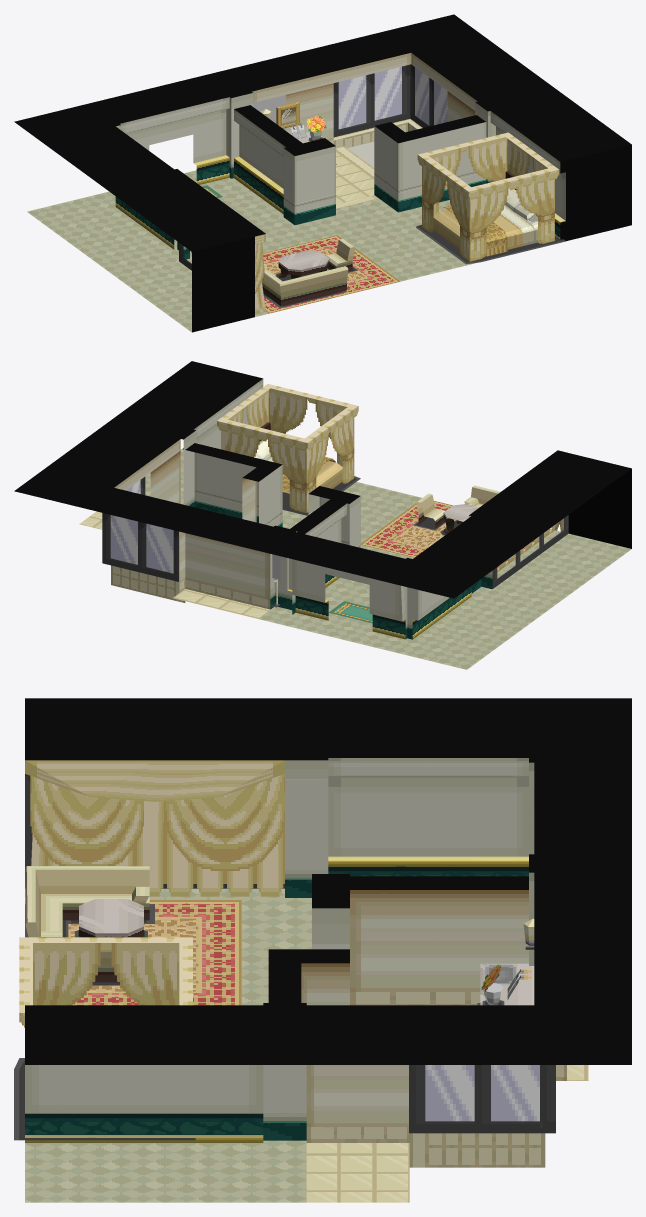
Rendered from ROOM32-2.obj.
3 views of the same model, one above another, from view 1: azimuth 30°, elevation 25°; view 2: azimuth 150°, elevation 25°; view 3: azimuth 270°, elevation 25° (orthographic). The views are drawn at different scales.
Visible parts, largest first — view 1: polygon2, polygon6, polygon10, polygon12, polygon1, polygon13, polygon5, polygon26, polygon11, polygon21, polygon9, polygon7 (+5 smaller); view 2: polygon2, polygon10, polygon6, polygon12, polygon1, polygon13, polygon11, polygon5, polygon9, polygon8, polygon26, polygon21 (+3 smaller); view 3: polygon2, polygon6, polygon1, polygon3, polygon10, polygon5, polygon12, polygon11, polygon14, polygon26, polygon9, polygon13 (+4 smaller).
Part boxes in pixels (x1=…): polygon2: x1=14, y1=14, x2=631, y2=332; polygon6: x1=116, y1=64, x2=565, y2=270; polygon10: x1=27, y1=170, x2=477, y2=332; polygon12: x1=417, y1=132, x2=559, y2=261; polygon1: x1=252, y1=53, x2=477, y2=143; polygon13: x1=338, y1=66, x2=447, y2=129; polygon5: x1=115, y1=155, x2=565, y2=249; polygon26: x1=262, y1=239, x2=354, y2=306; polygon11: x1=260, y1=235, x2=400, y2=313; polygon21: x1=433, y1=171, x2=537, y2=249; polygon9: x1=336, y1=151, x2=378, y2=208; polygon7: x1=263, y1=137, x2=565, y2=307; polygon2: x1=14, y1=361, x2=631, y2=598; polygon10: x1=145, y1=448, x2=631, y2=669; polygon6: x1=102, y1=379, x2=568, y2=639; polygon12: x1=217, y1=384, x2=358, y2=512; polygon1: x1=114, y1=439, x2=277, y2=609; polygon13: x1=110, y1=480, x2=173, y2=573; polygon11: x1=360, y1=501, x2=551, y2=571; polygon5: x1=287, y1=574, x2=471, y2=639; polygon9: x1=79, y1=511, x2=269, y2=618; polygon8: x1=111, y1=565, x2=185, y2=602; polygon26: x1=416, y1=485, x2=500, y2=528; polygon21: x1=254, y1=422, x2=342, y2=493; polygon2: x1=25, y1=698, x2=631, y2=1064; polygon6: x1=25, y1=758, x2=555, y2=1140; polygon1: x1=301, y1=890, x2=566, y2=1142; polygon3: x1=25, y1=760, x2=284, y2=870; polygon10: x1=25, y1=888, x2=311, y2=1202; polygon5: x1=25, y1=856, x2=528, y2=1142; polygon12: x1=19, y1=937, x2=192, y2=1027; polygon11: x1=25, y1=900, x2=241, y2=1005; polygon14: x1=31, y1=801, x2=284, y2=896; polygon26: x1=25, y1=866, x2=149, y2=982; polygon9: x1=306, y1=1065, x2=588, y2=1202; polygon13: x1=425, y1=1065, x2=539, y2=1121.
Size of the model in its own units: 5 by 1.03 by 3.56.
